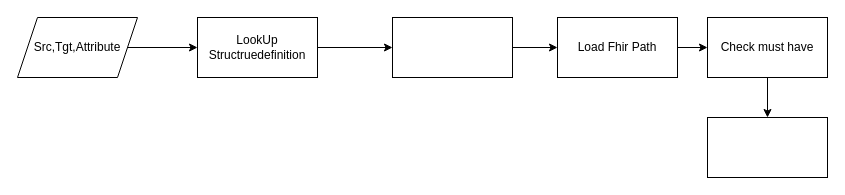
Some shapes in this 845 by 195 pixel diagram are drawn without their labels. The box of each missing label's shape, as (x1, y1, x2, y2) in pixels:
execute copy with Terser: (706, 116, 828, 178)
Generate FhirPath+TerserPath: (392, 16, 512, 78)
